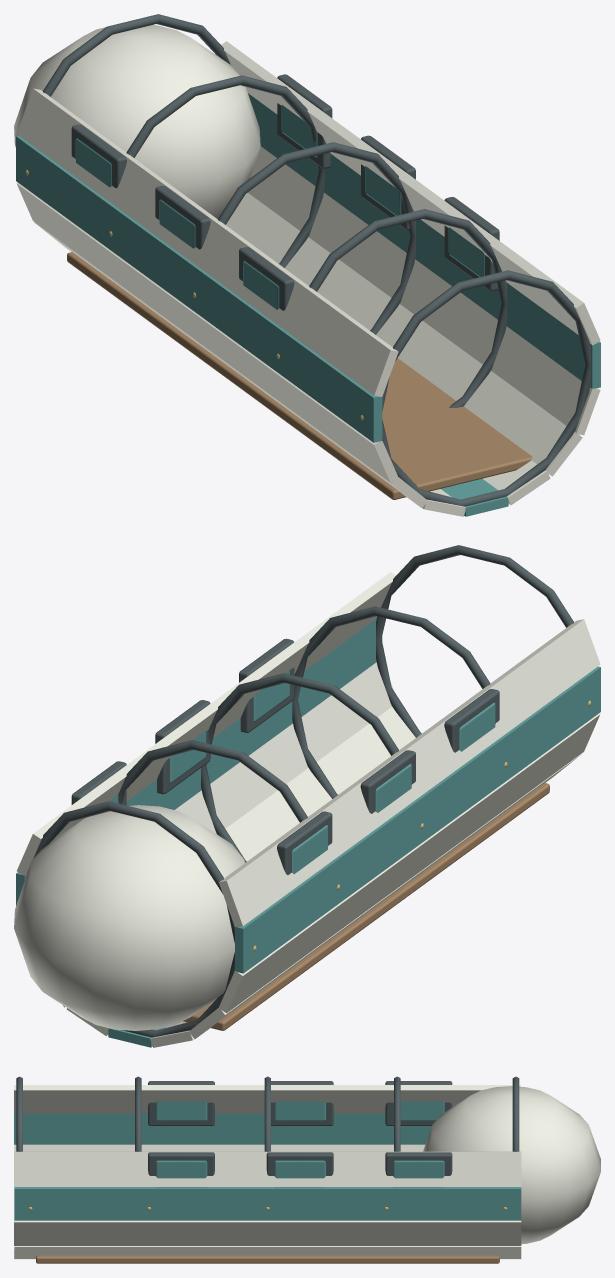
File: castaway-island-escape-crashed-light-aircraft-fuselage-a23f3823__28047.glb
3 views of the same model, one above another, from view 1: azimuth 30°, elevation 25°; view 2: azimuth 150°, elevation 25°; view 3: azimuth 270°, elevation 25° (orthographic). The views are drawn at different scales.
Visible parts, largest first — view 1: crashed-light-aircraft-fuselage-ivory, crashed-light-aircraft-fuselage-teal, crashed-light-aircraft-fuselage-iron, crashed-light-aircraft-fuselage-wood; view 2: crashed-light-aircraft-fuselage-ivory, crashed-light-aircraft-fuselage-teal, crashed-light-aircraft-fuselage-iron, crashed-light-aircraft-fuselage-wood; view 3: crashed-light-aircraft-fuselage-ivory, crashed-light-aircraft-fuselage-teal, crashed-light-aircraft-fuselage-iron, crashed-light-aircraft-fuselage-wood.
Part boxes in pixels (x1,y1,x2,y2): crashed-light-aircraft-fuselage-ivory: [14, 25, 600, 516]; crashed-light-aircraft-fuselage-teal: [16, 93, 600, 516]; crashed-light-aircraft-fuselage-iron: [43, 14, 590, 506]; crashed-light-aircraft-fuselage-wood: [67, 252, 532, 499]; crashed-light-aircraft-fuselage-ivory: [14, 572, 600, 1047]; crashed-light-aircraft-fuselage-teal: [16, 619, 600, 1047]; crashed-light-aircraft-fuselage-iron: [33, 545, 573, 1037]; crashed-light-aircraft-fuselage-wood: [183, 783, 549, 1030]; crashed-light-aircraft-fuselage-ivory: [14, 1085, 600, 1259]; crashed-light-aircraft-fuselage-teal: [14, 1101, 521, 1220]; crashed-light-aircraft-fuselage-iron: [16, 1076, 519, 1175]; crashed-light-aircraft-fuselage-wood: [36, 1255, 499, 1263].
Bounding box in the file's own units: 1.75 × 1.69 × 5.44.
